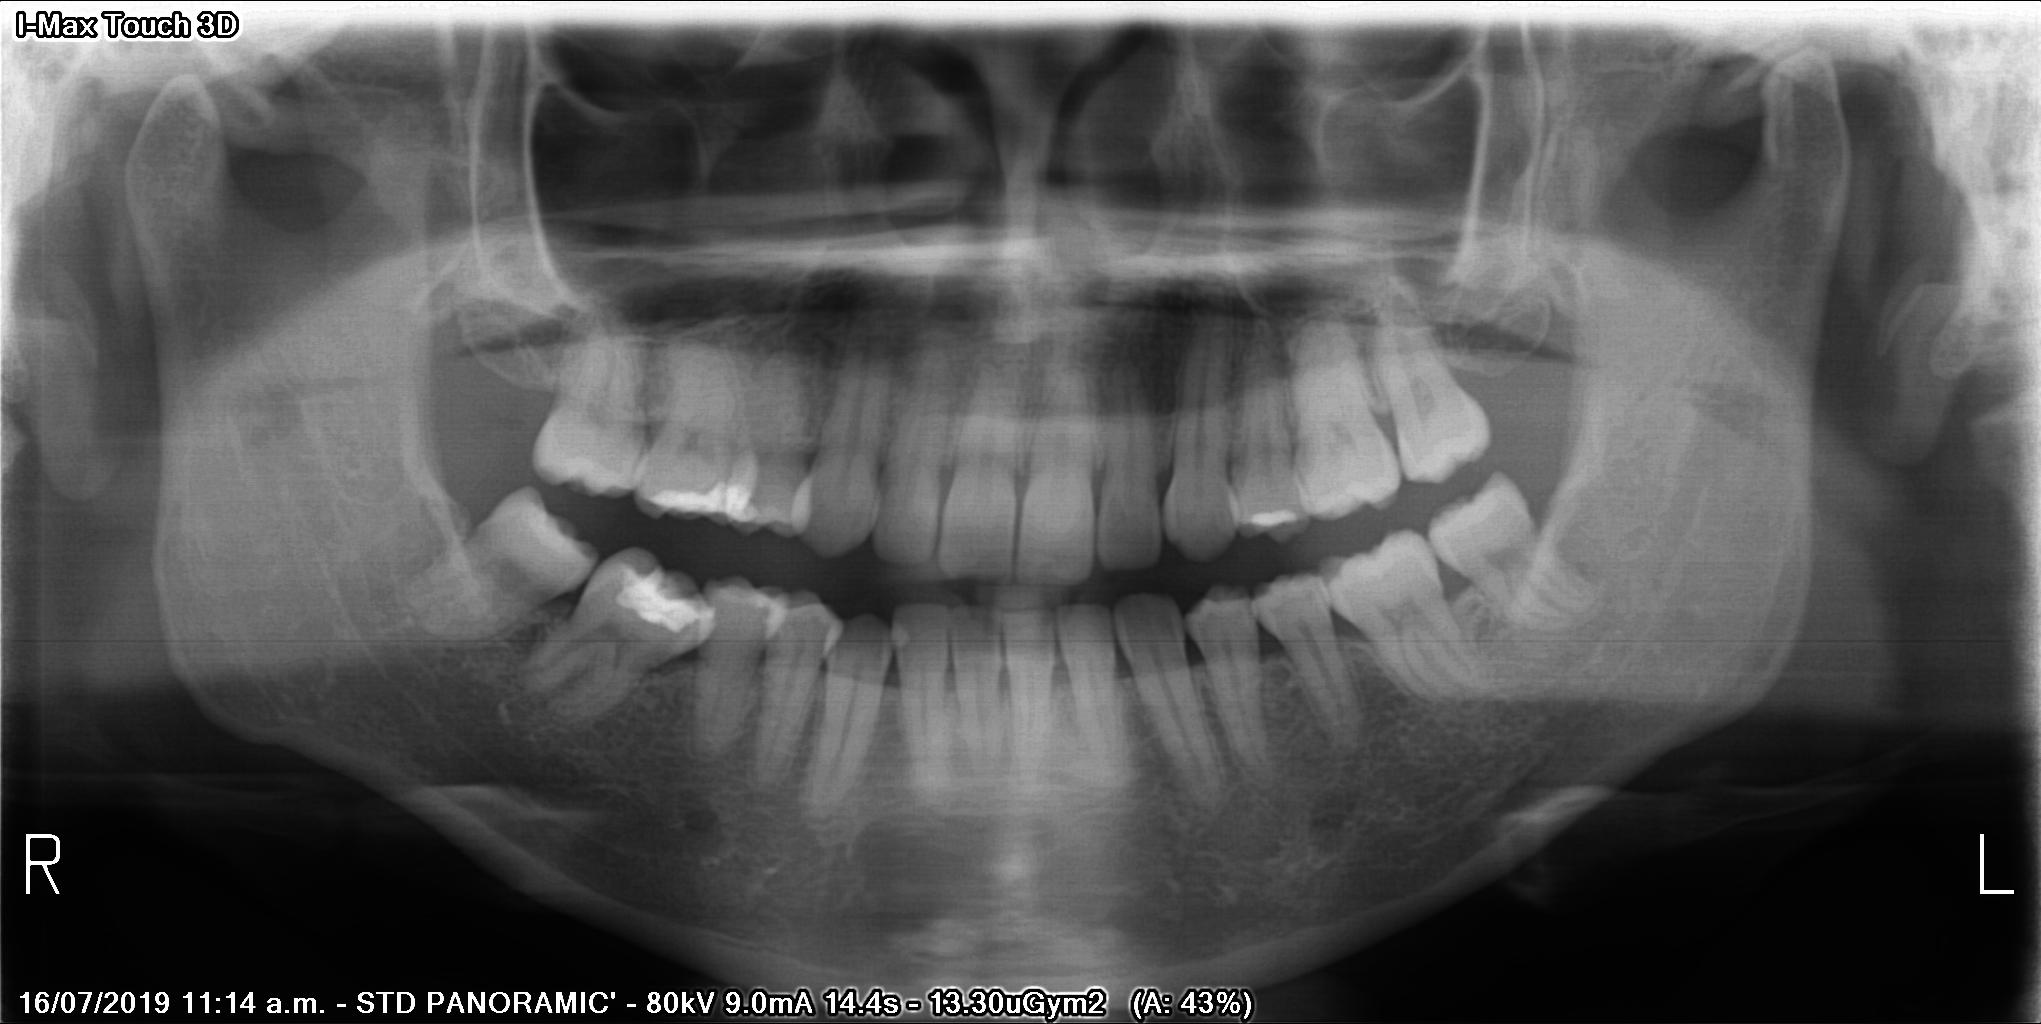Çürük: (604, 550, 704, 646), (646, 465, 728, 520), (718, 472, 780, 530), (1226, 498, 1314, 538), (742, 580, 797, 644), (782, 470, 828, 537), (814, 602, 855, 674), (888, 620, 918, 653)
